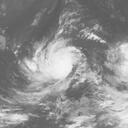cyclone: (20, 37, 86, 93)
